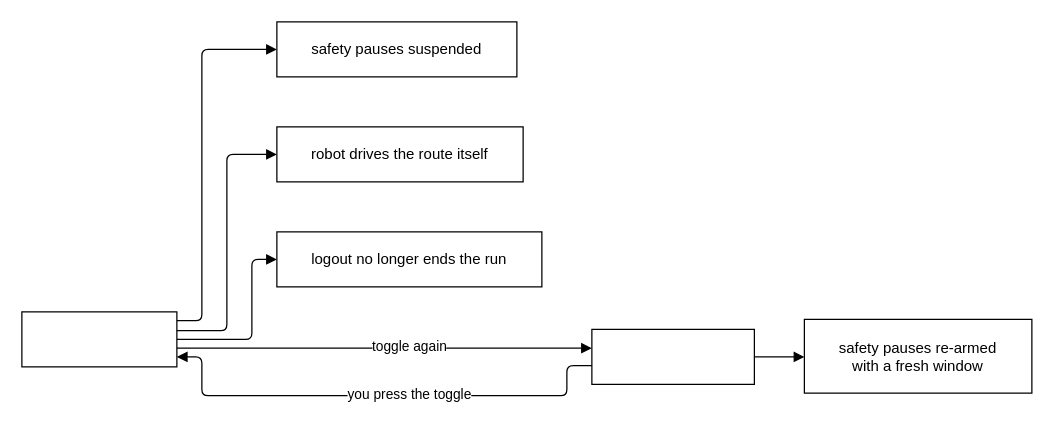
Some shapes in this 1054 by 428 pixel diagram are drawn without their labels. Here are the shapes that lost their labels. From the top down, the box of each, then its label:
(21, 311, 177, 367): Autopilot ON
(591, 328, 754, 384): Autopilot OFF
